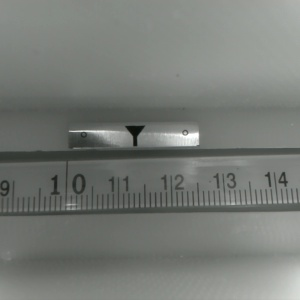0: (71, 174, 86, 194)
1: (50, 174, 60, 195), (264, 171, 271, 187), (213, 173, 219, 189), (122, 176, 128, 192), (108, 177, 114, 193), (161, 175, 167, 190)
2: (174, 174, 183, 190)
3: (225, 173, 235, 188)
4: (277, 171, 288, 187)
9: (0, 180, 10, 197)
finger: (122, 125, 145, 147)
